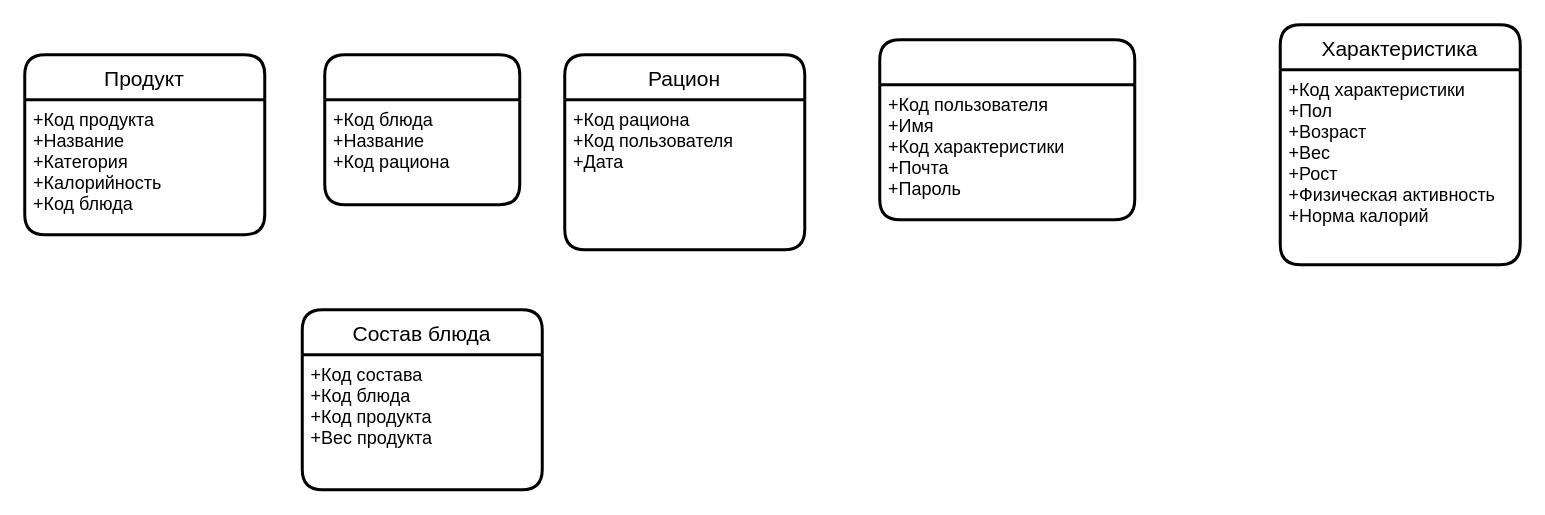
Some shapes in this 1545 by 515 pixel diagram are drawn without their labels. The shapes that lost their labels are listed below. From the top down, each one's box as (x1, y1, x2, y2) in pixels, then its label:
(322, 52, 520, 206): Блюдо
(878, 38, 1136, 220): Пользователь
